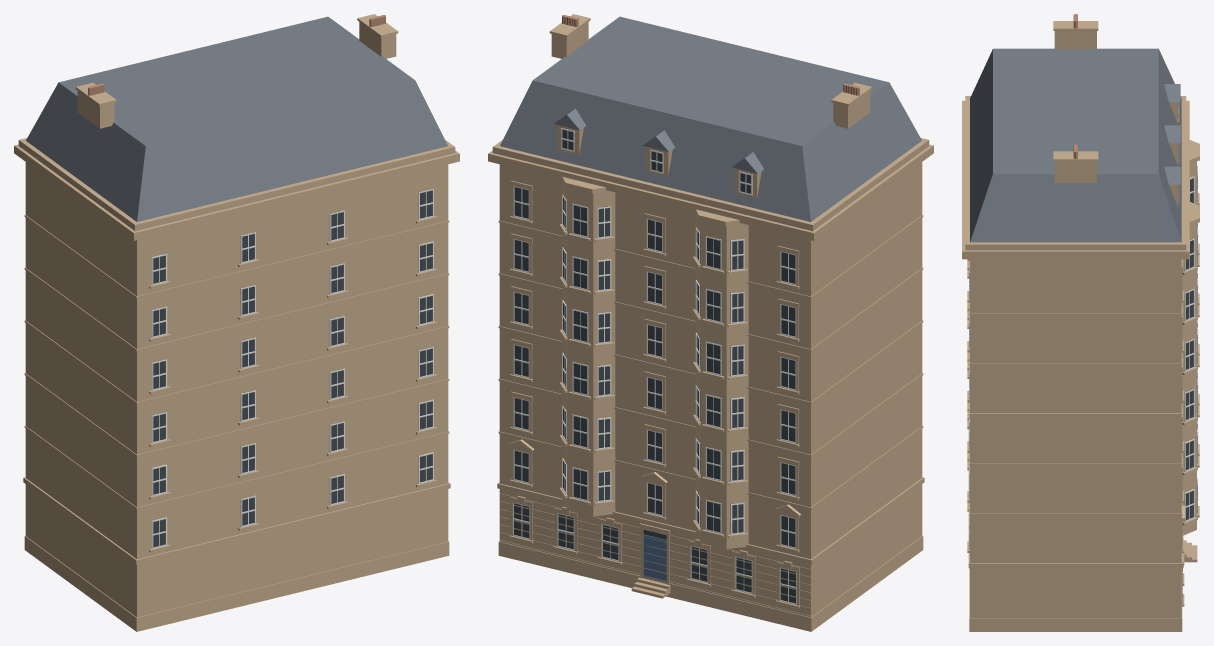
Rendered from classical7_bays.glb.
The picture shows the model from 3 angles, left to right: view 1: azimuth 30°, elevation 25°; view 2: azimuth 150°, elevation 25°; view 3: azimuth 270°, elevation 25°; orthographic projection. The views are drawn at different scales.
Parts seen in each view (by area): view 1: classical7_bays; view 2: classical7_bays; view 3: classical7_bays.
Part boxes in pixels (box(x1,y1,x2,y2)): classical7_bays: box(14, 14, 459, 631); classical7_bays: box(488, 14, 933, 631); classical7_bays: box(962, 14, 1199, 631).
Size of the model in its own units: 22 by 32.32 by 14.63.
